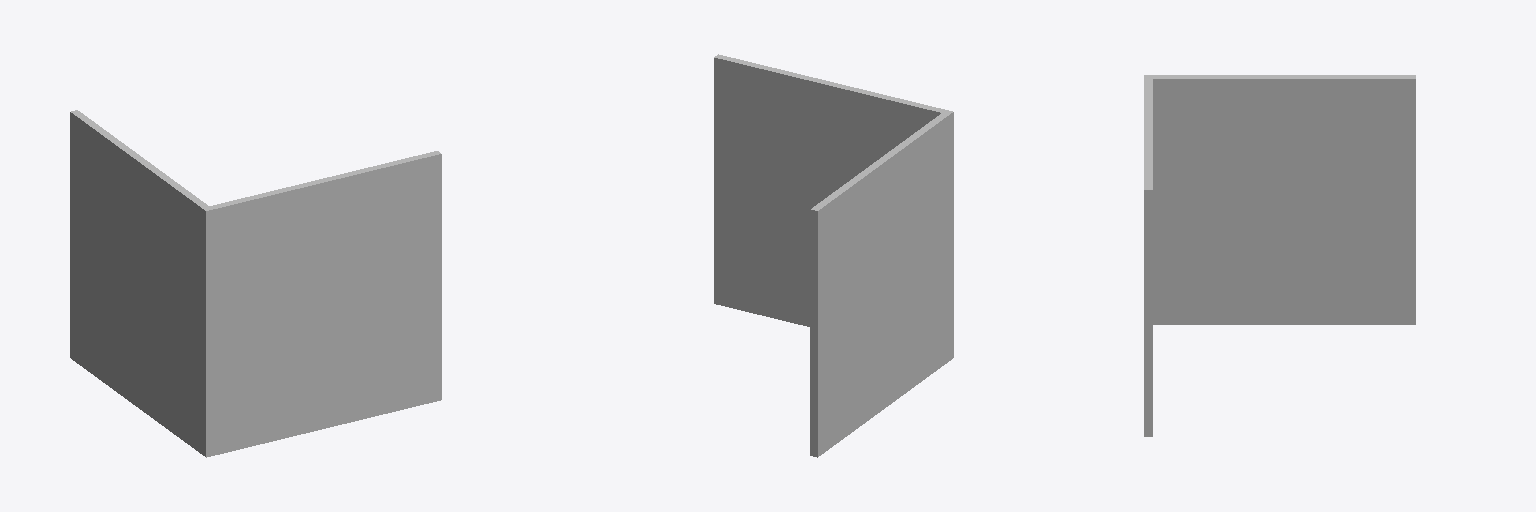
The model's file is corner.obj.
3 views of the same model, side by side, from view 1: azimuth 30°, elevation 25°; view 2: azimuth 150°, elevation 25°; view 3: azimuth 270°, elevation 25° (orthographic).
Parts seen in each view (by area): view 1: corner; view 2: corner; view 3: corner.
Part boxes in pixels (left/top/right/bottom): corner: left=70, top=110, right=441, bottom=457; corner: left=714, top=54, right=953, bottom=457; corner: left=1144, top=75, right=1415, bottom=436.
Size of the model in its own units: 3.83 by 3.83 by 3.83.